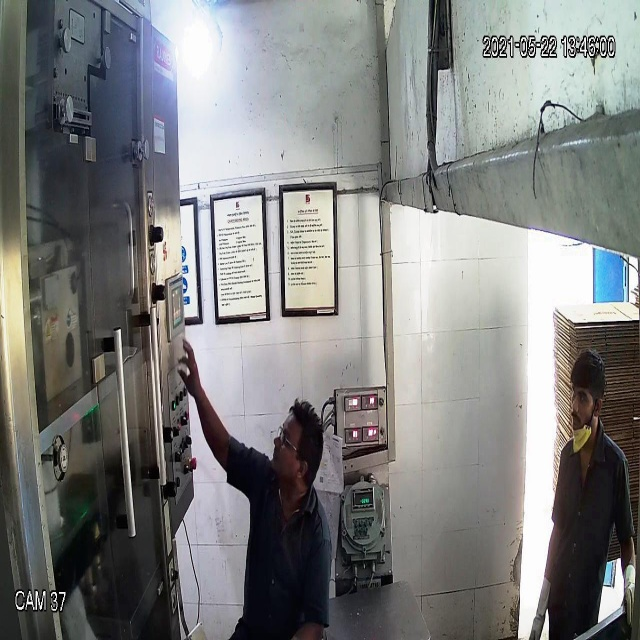Gafas: (276, 421, 316, 463)
Sin_gafas: (566, 380, 601, 413)
